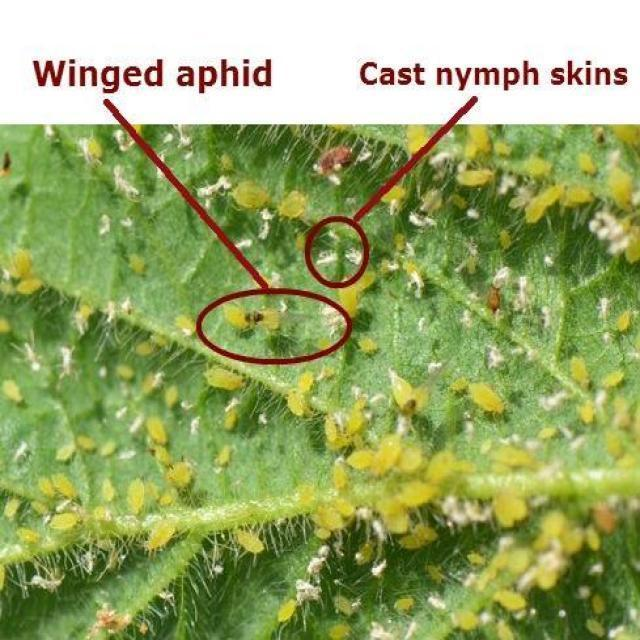aphid: (342, 425, 446, 490), (136, 417, 195, 497), (224, 176, 308, 222), (453, 375, 516, 434), (522, 178, 594, 225), (305, 481, 361, 540), (0, 240, 44, 304), (322, 397, 372, 452), (386, 368, 432, 418), (284, 369, 322, 420), (222, 302, 282, 334), (36, 471, 80, 505), (202, 365, 247, 392), (404, 260, 426, 296)
